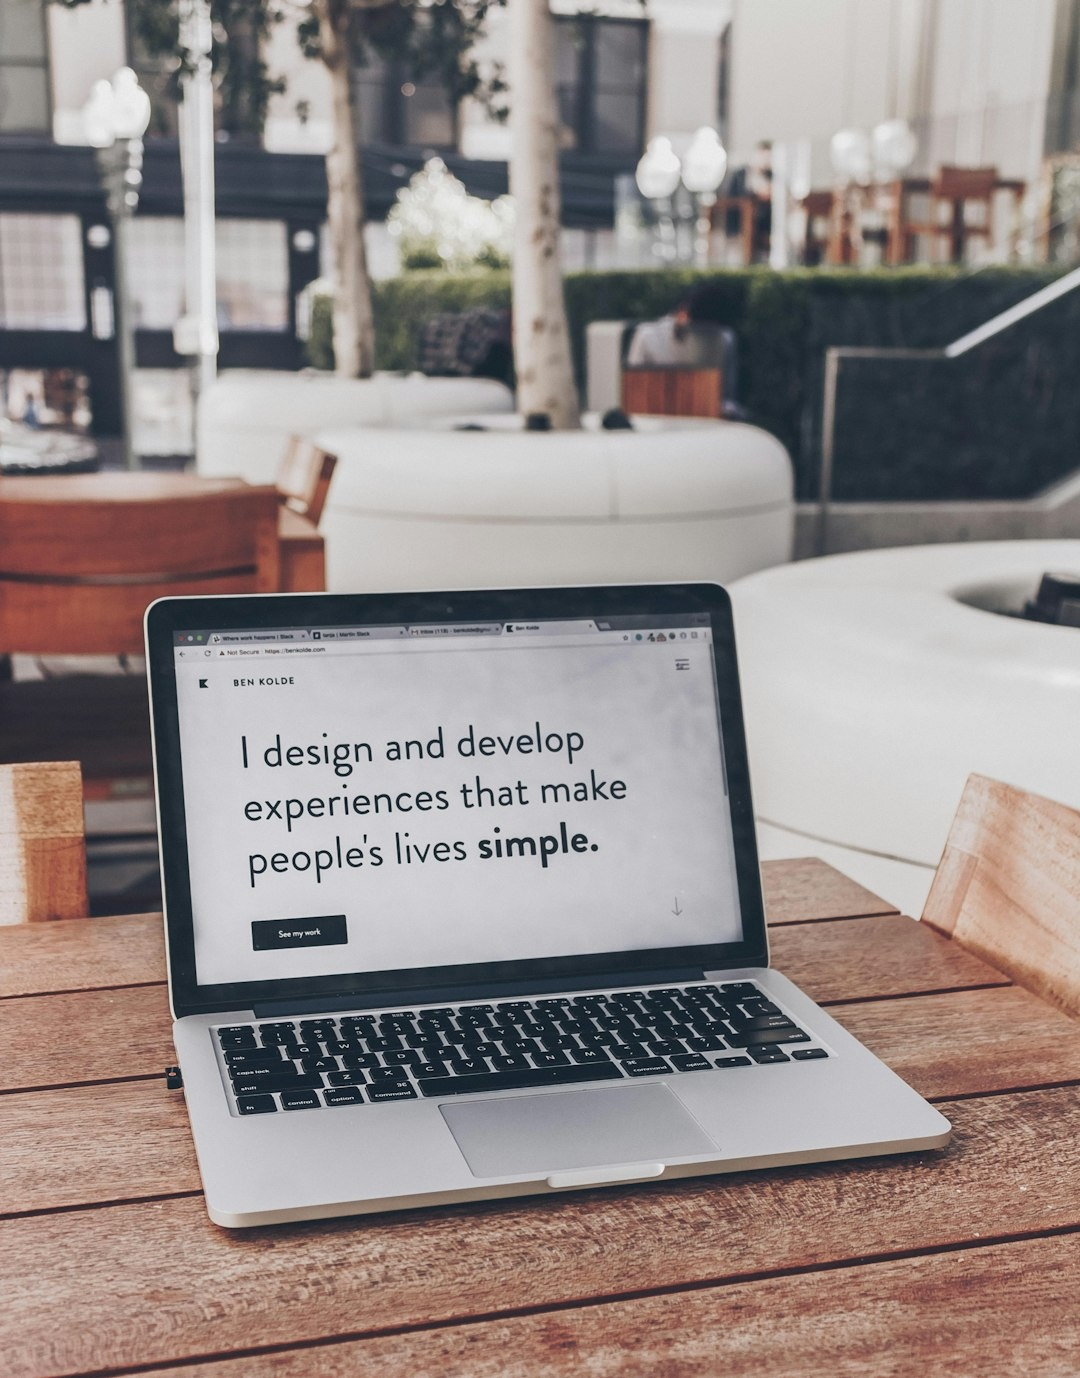laptop: (117, 557, 994, 1249)
